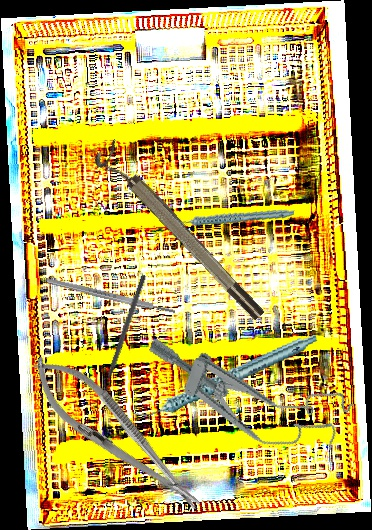Fixation Ring: (91, 139, 268, 330)
Handpiece: (123, 333, 327, 422), (173, 190, 295, 242)
Hook Surgical: (99, 273, 147, 396)
Needle Holder: (18, 342, 215, 527)
Scalpel Handle: (45, 276, 177, 316)
Speculum: (132, 322, 356, 470)
